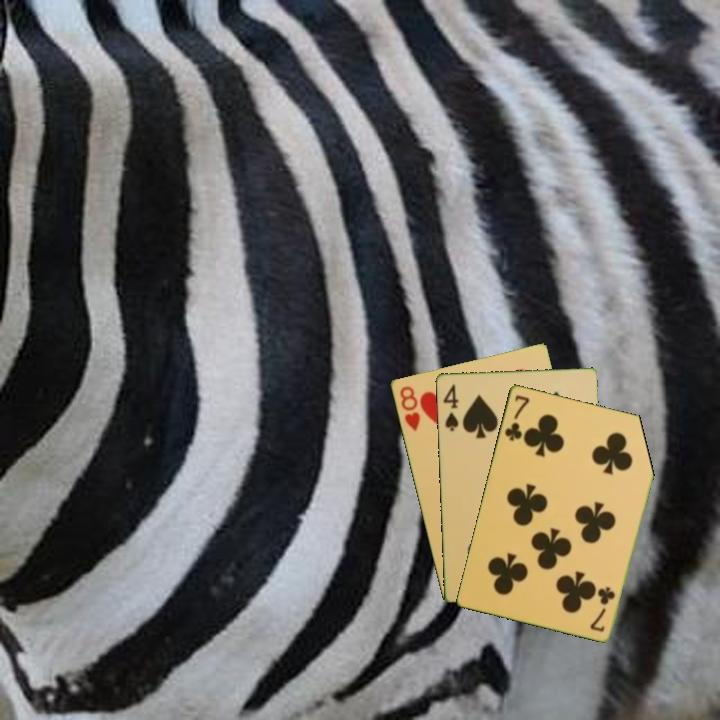4s: (439, 381, 461, 434)
7c: (501, 391, 532, 444), (588, 583, 618, 634)
8h: (396, 382, 423, 434)
